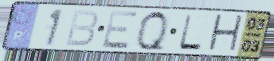1: (45, 8, 65, 48)
B: (63, 9, 100, 48)
E: (100, 9, 141, 50)
H: (205, 13, 245, 55)
L: (176, 13, 204, 52)
Q: (135, 9, 170, 54)
